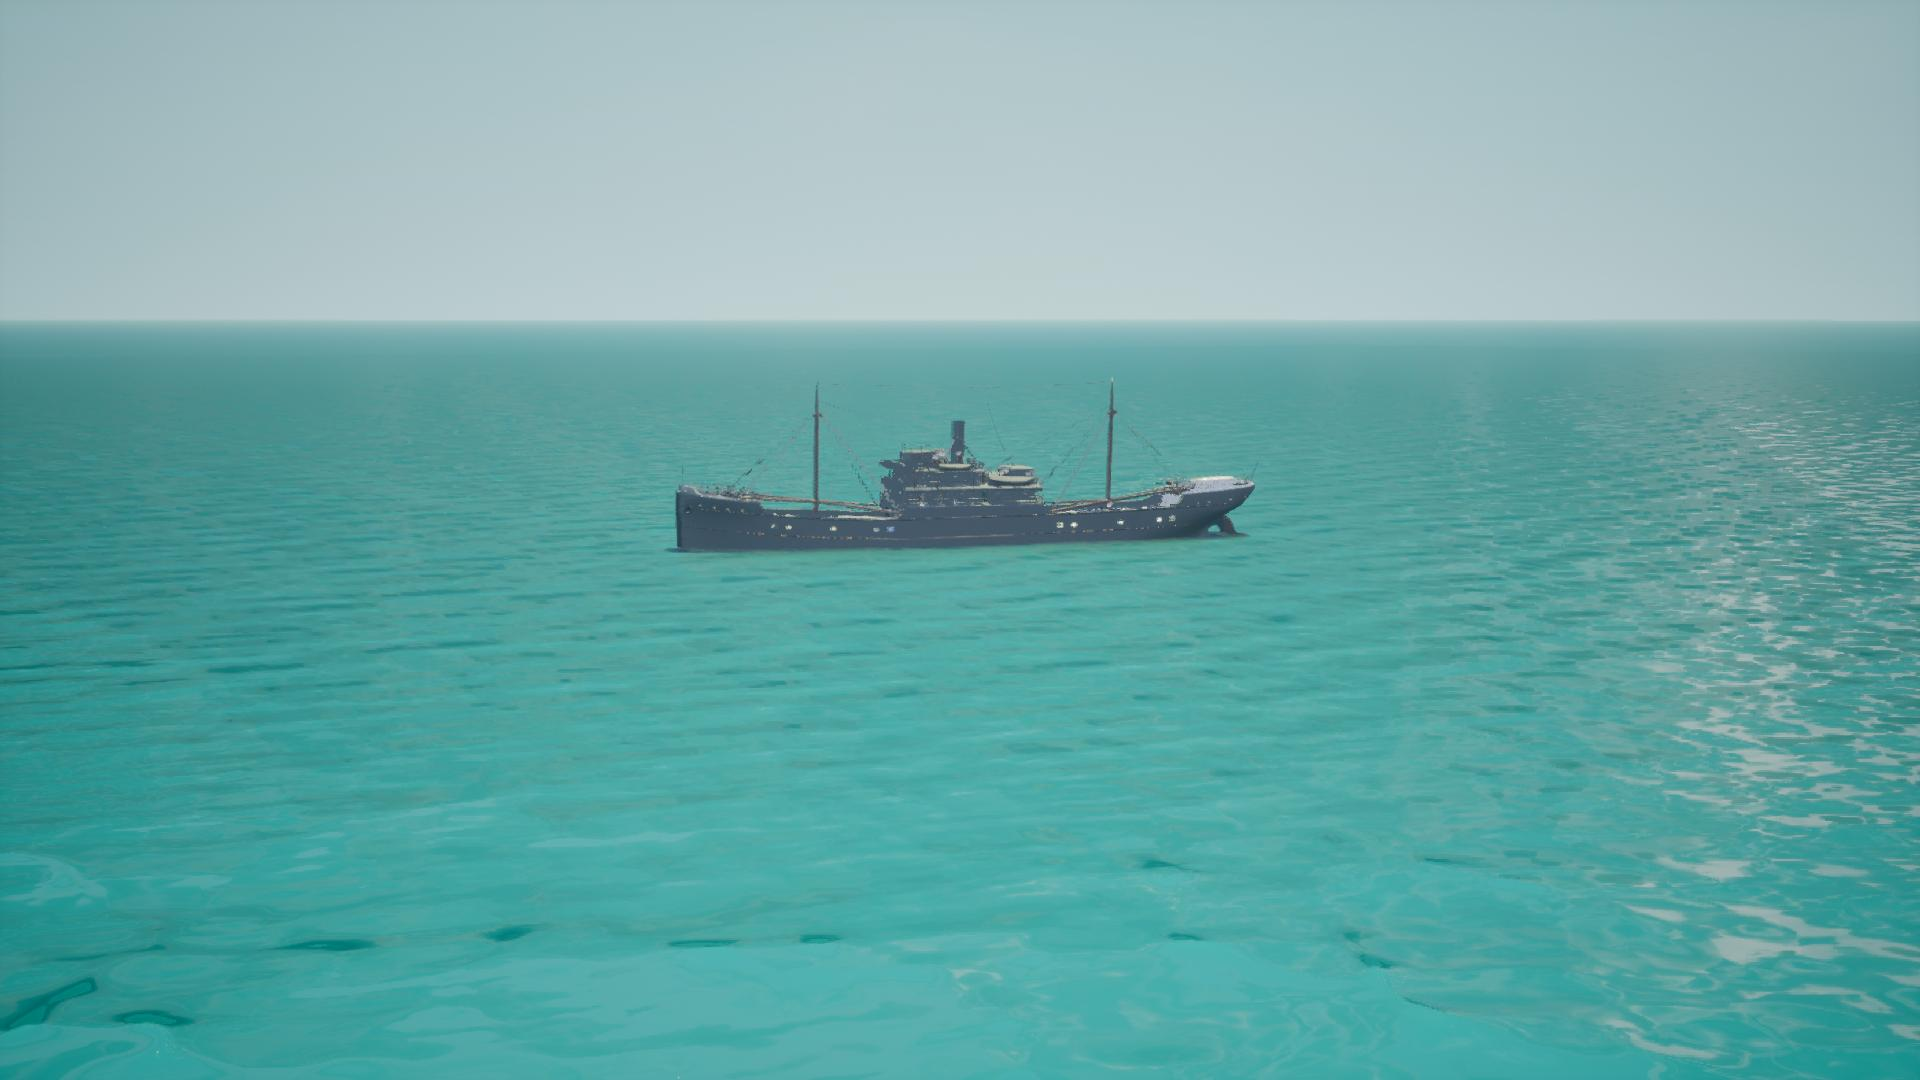Fishing Boat: (679, 384, 1258, 553)
